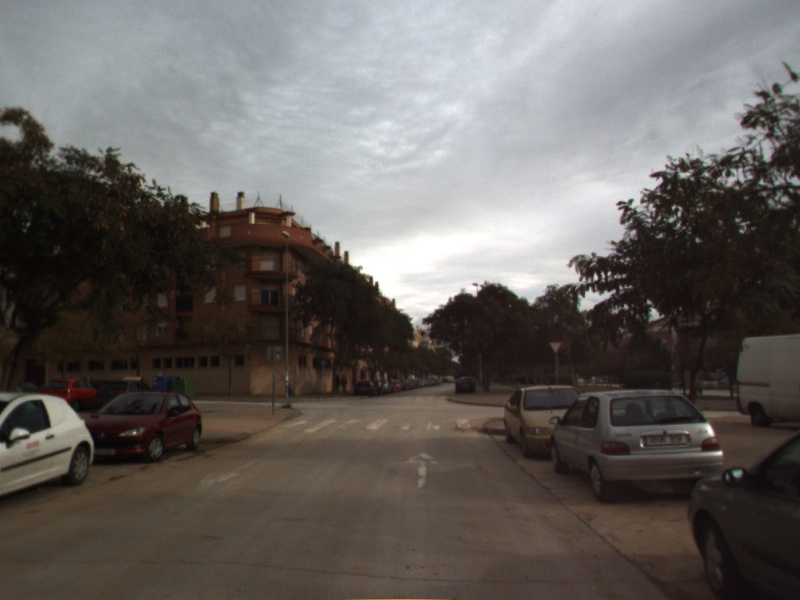STRAIGHT: (401, 450, 442, 490)
